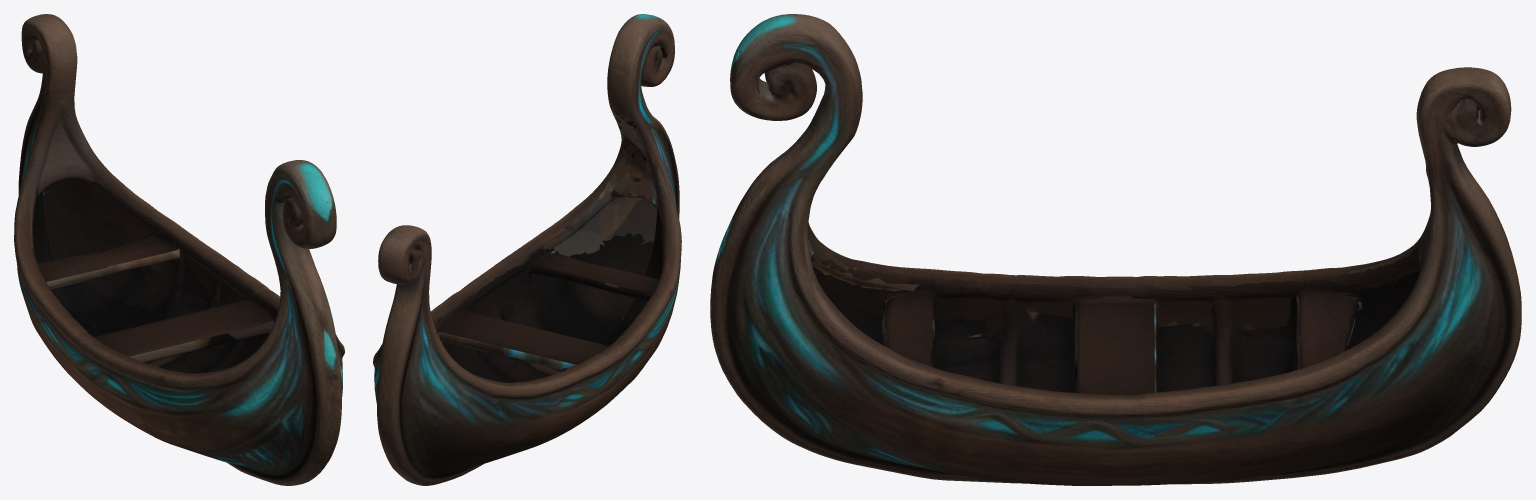
File: boat.glb
3 views of the same model, side by side, from view 1: azimuth 30°, elevation 25°; view 2: azimuth 150°, elevation 25°; view 3: azimuth 270°, elevation 25° (orthographic). The views are drawn at different scales.
Visible parts, largest first — view 1: world; view 2: world; view 3: world.
Boxes of the visible parts, x1,y1,x2,y2 form: world: (14,14,344,485); world: (373,14,681,485); world: (710,14,1521,485).
Bounding box in the file's own units: 0.7429 × 1.26 × 1.99.
Materials: 1 (1 with a texture image).
